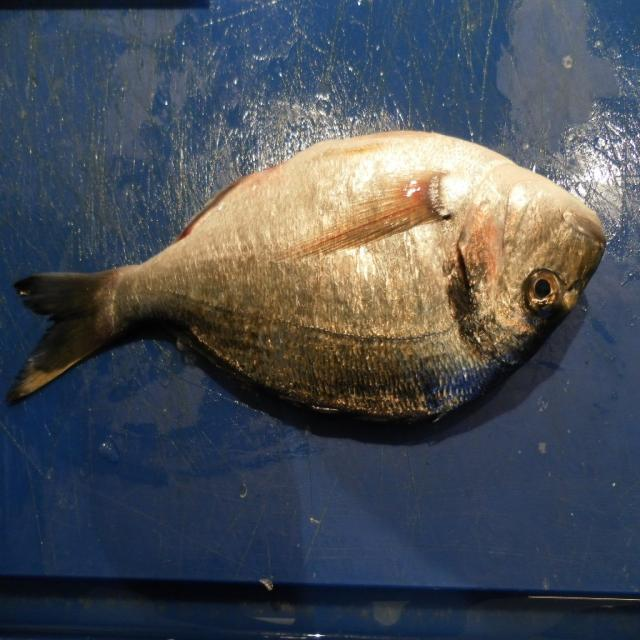Gilt-Head-Bream-c-ipura-: (6, 129, 607, 432)
